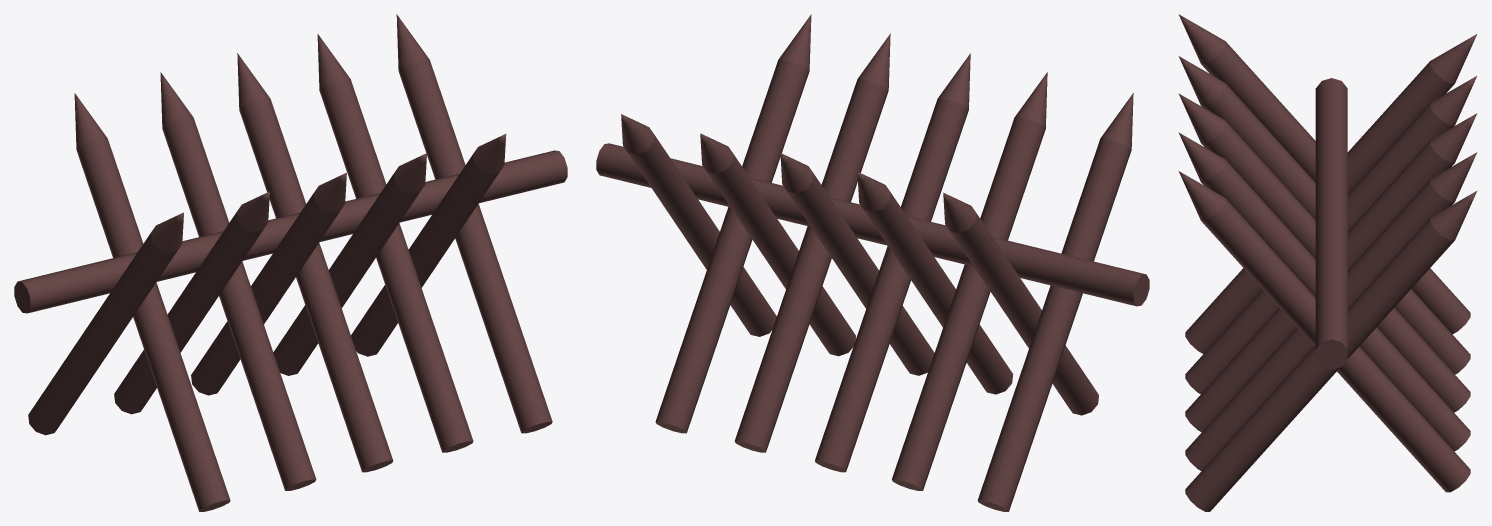
The model's file is barricade wood spike.fbx.
The picture shows the model from 3 angles, left to right: view 1: azimuth 30°, elevation 25°; view 2: azimuth 150°, elevation 25°; view 3: azimuth 270°, elevation 25°; orthographic projection.
Parts seen in each view (by area): view 1: Spike_barricade_wood; view 2: Spike_barricade_wood; view 3: Spike_barricade_wood.
Boxes of the visible parts, <box> form: Spike_barricade_wood: <box>14,14,567,511</box>; Spike_barricade_wood: <box>596,14,1149,511</box>; Spike_barricade_wood: <box>1178,14,1477,511</box>.
Bounding box in the file's own units: 109 × 62.06 × 52.68.
